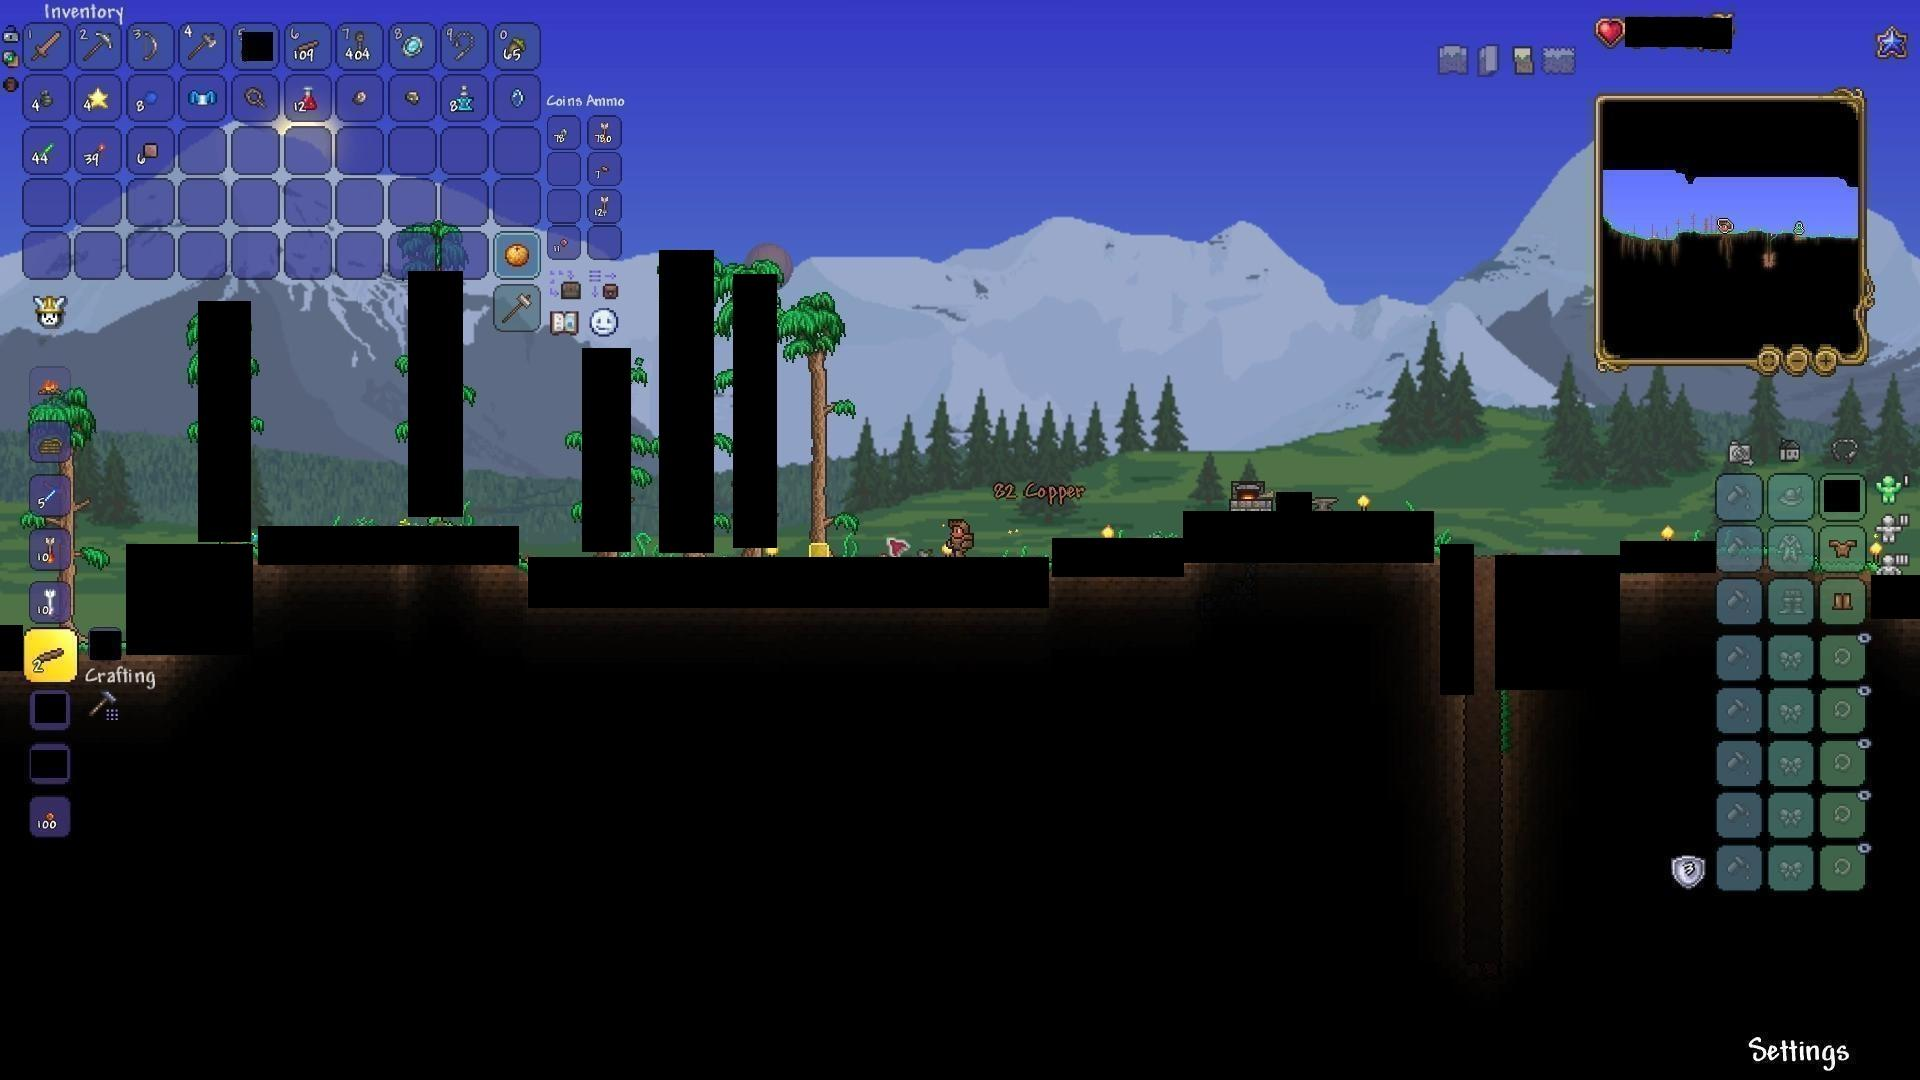breastplate: (1826, 537, 1858, 559)
heart: (1596, 16, 1627, 45)
legs: (1829, 589, 1854, 618)
tree: (798, 291, 848, 549)
